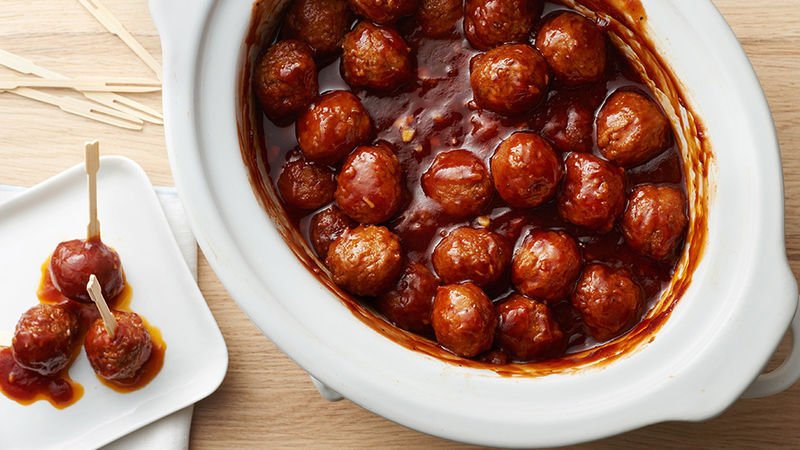meatballs: (582, 89, 676, 172), (80, 298, 155, 381), (531, 11, 616, 82), (345, 23, 419, 96), (432, 221, 509, 291), (470, 49, 545, 120), (301, 98, 377, 164), (513, 227, 585, 296), (485, 132, 558, 200), (337, 220, 404, 290), (626, 182, 687, 256), (265, 37, 318, 122), (572, 156, 634, 228), (10, 303, 76, 370), (343, 142, 399, 218), (590, 265, 647, 337), (431, 278, 491, 346), (489, 299, 559, 357), (56, 237, 119, 299), (428, 148, 486, 210), (455, 1, 522, 53)
